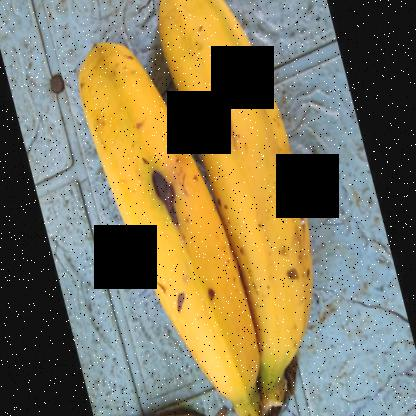freshripe: (182, 0, 318, 368)
ripe: (62, 40, 244, 415)
